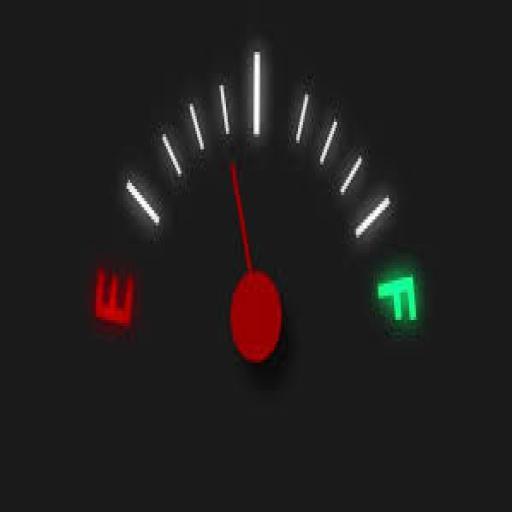empty: (84, 253, 152, 341)
full: (369, 270, 425, 331)
guage_area: (30, 38, 460, 456)
needle_center: (224, 259, 292, 375)
needle_tip: (224, 153, 246, 195)
